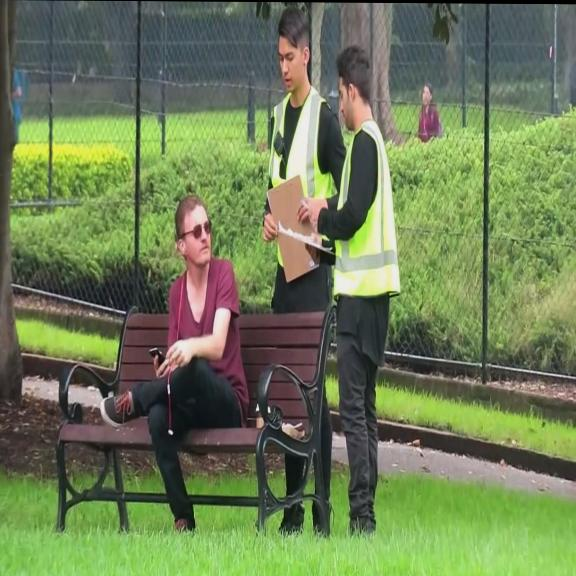safety_vest: (333, 117, 402, 301), (270, 88, 332, 272)
